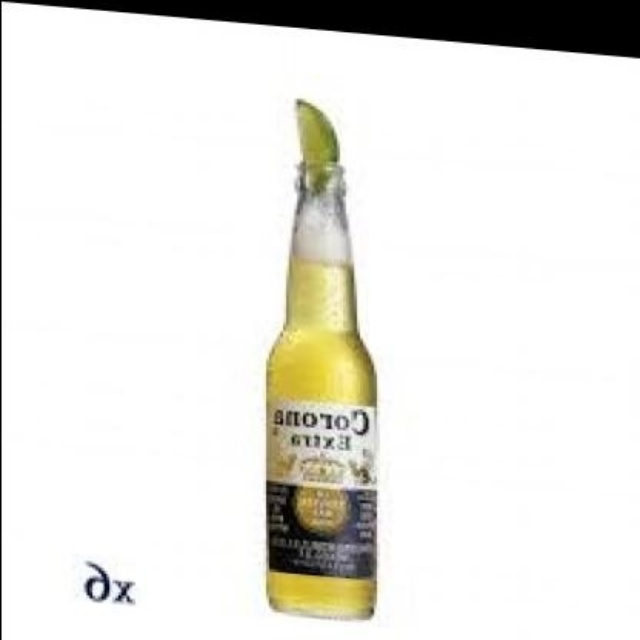trash: (266, 100, 375, 617)
